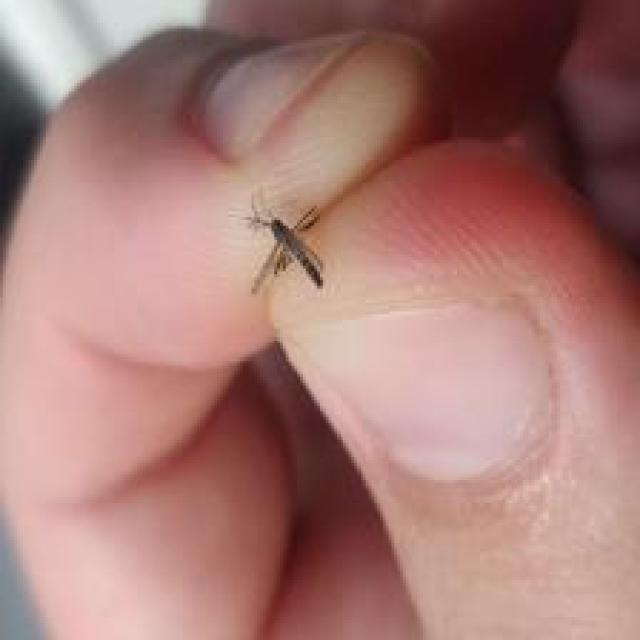Aedes albopictus: (240, 187, 326, 296)
